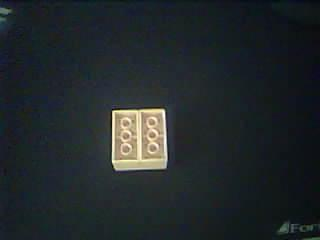lego: (111, 109, 169, 171)
